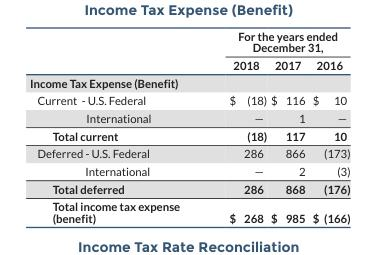table: (28, 28, 349, 224)
table column: (28, 28, 203, 224), (203, 28, 268, 224), (308, 28, 349, 224), (268, 28, 308, 224)
table column header: (28, 28, 349, 73)
table projected row header: (28, 73, 349, 91)
table row: (28, 28, 349, 55), (28, 197, 349, 224), (28, 55, 349, 73), (28, 73, 349, 91), (28, 108, 349, 126), (28, 126, 349, 144), (28, 161, 349, 179), (28, 179, 349, 197), (28, 91, 349, 108), (28, 144, 349, 161)
table spanning cell: (203, 28, 349, 55)
